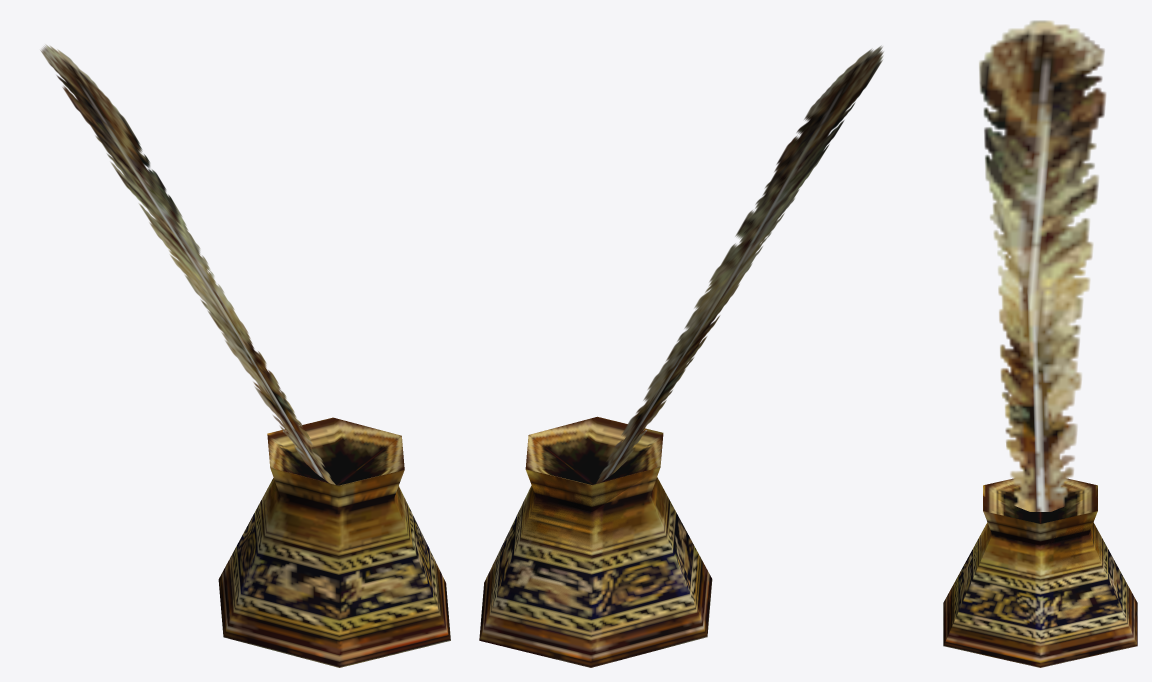
The model's file is st_chern.glb.
3 views of the same model, side by side, from view 1: azimuth 30°, elevation 25°; view 2: azimuth 150°, elevation 25°; view 3: azimuth 270°, elevation 25° (orthographic). The views are drawn at different scales.
Parts seen in each view (by area): view 1: st_chern; view 2: st_chern; view 3: st_chern.
Part boxes in pixels (x1,y1,x2,y2): st_chern: (40, 44, 450, 667); st_chern: (479, 45, 883, 667); st_chern: (943, 20, 1137, 667).
Size of the model in its own units: 0.2239 by 0.3494 by 0.122.
Materials: 1 (1 with a texture image).
